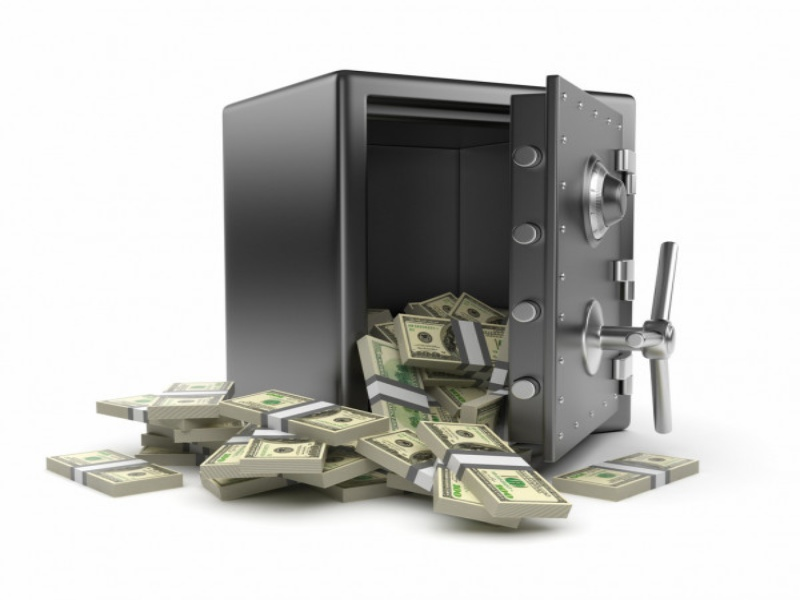cash: (44, 289, 699, 528)
